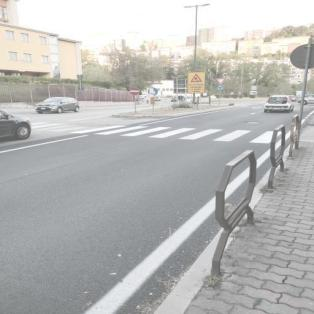Paso de Cebra: (178, 122, 253, 146), (68, 118, 150, 138)
